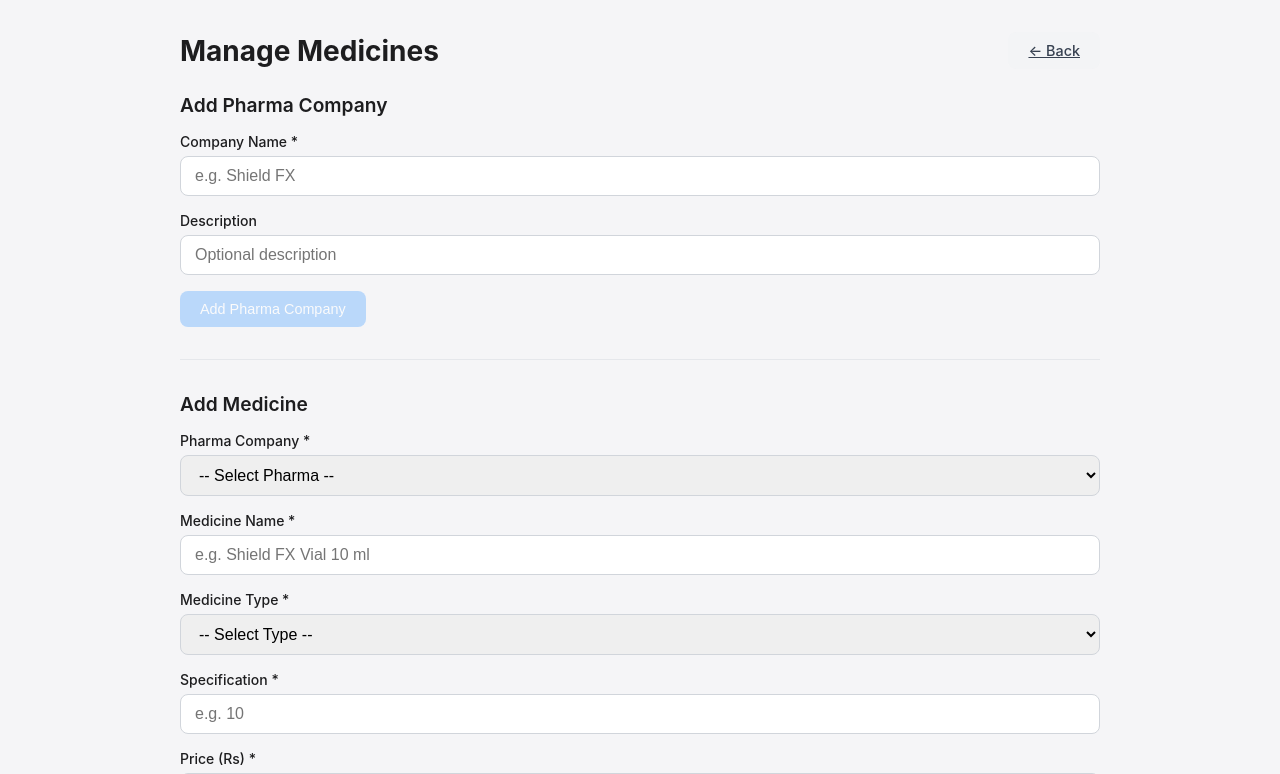
ManageMedicines — add pharma company › Add Pharma Company button enabled when name is filled
Type "New Co" into the field labelled "Company Name *" at (640, 176), box [180,156,1100,196]
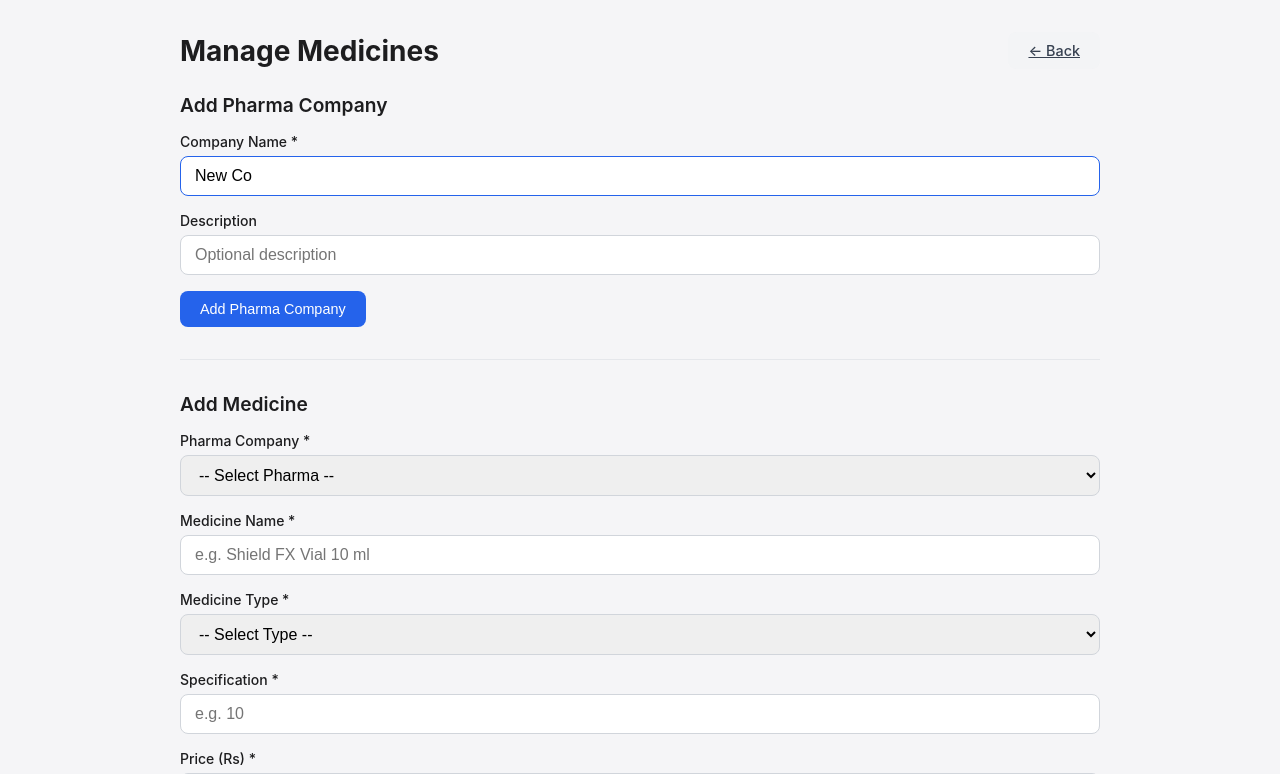
Result: the button "Add Pharma Company" is enabled at [180,291,366,327]
